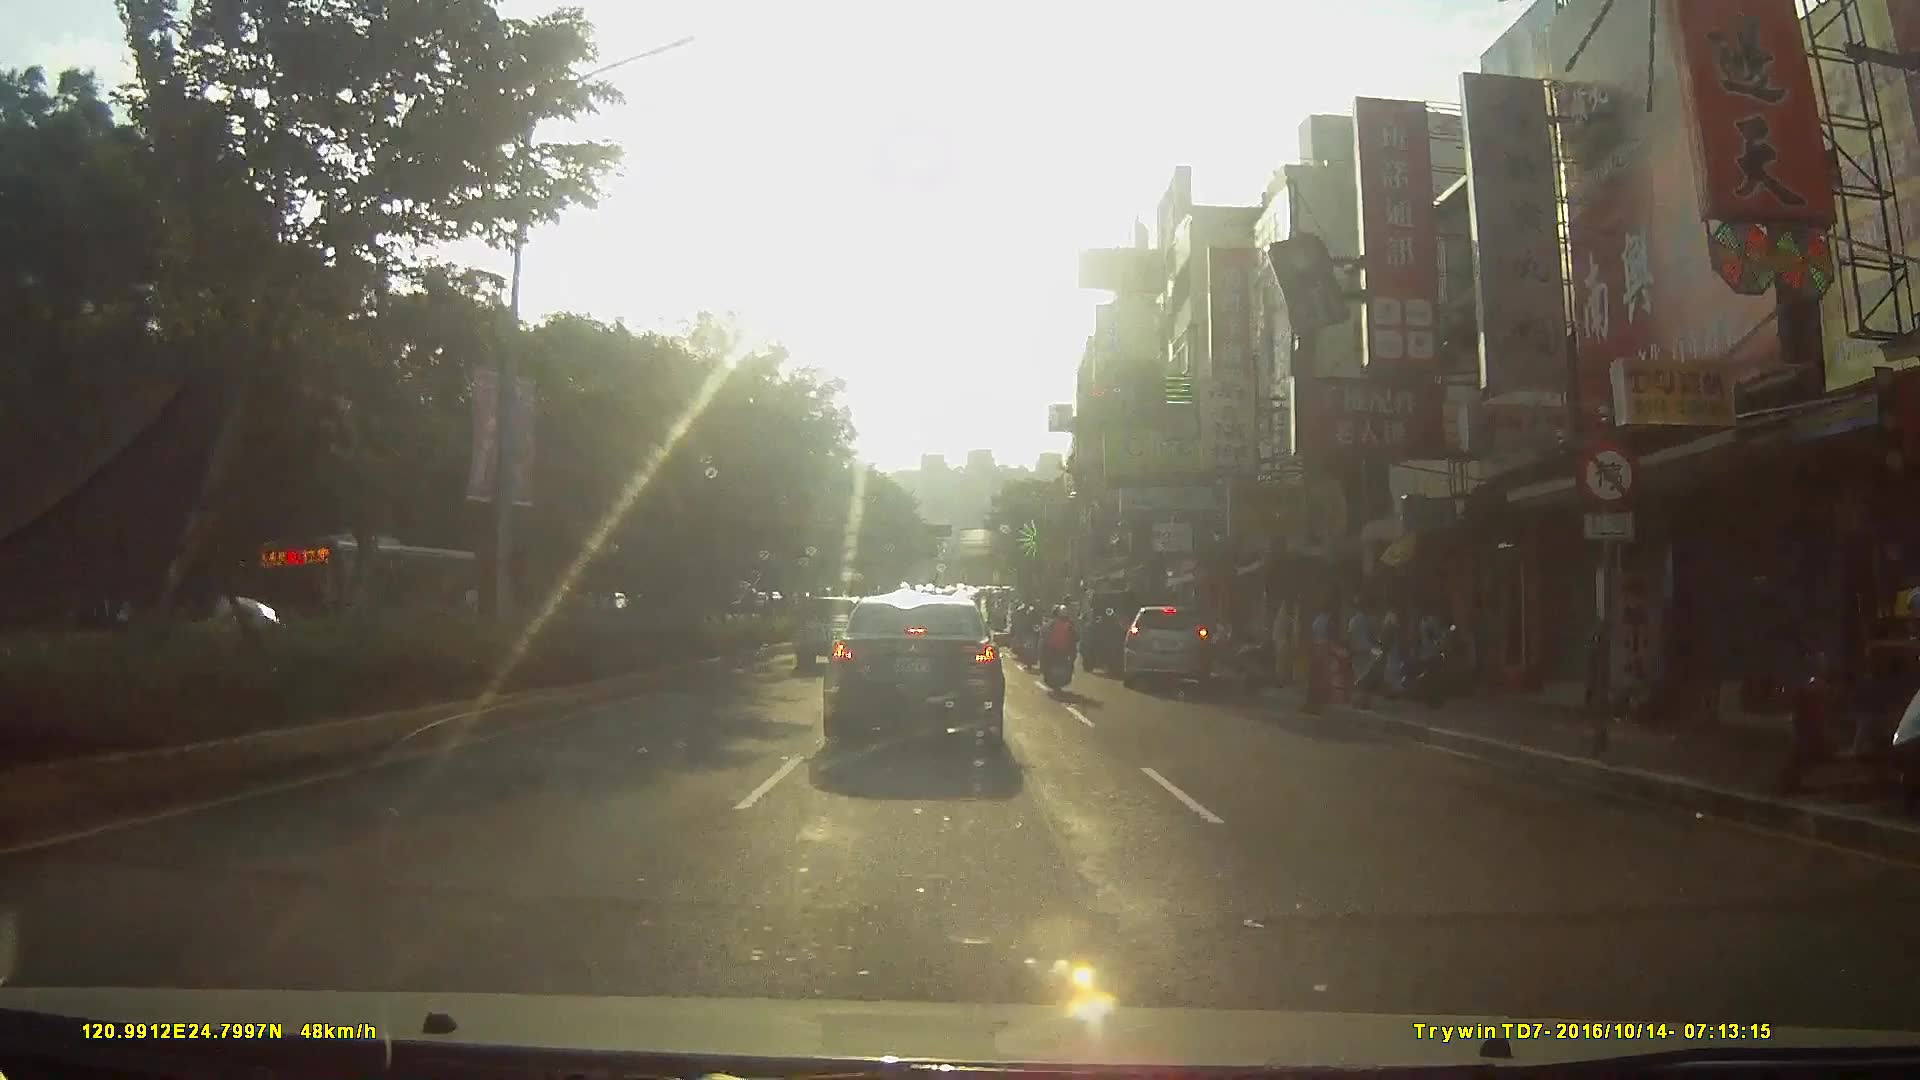pedestrian: (1382, 596, 1402, 658)
rider: (1043, 600, 1087, 697), (1017, 601, 1043, 668)
vehicle: (822, 588, 1030, 764), (243, 529, 480, 662), (1125, 600, 1222, 691), (1077, 578, 1162, 672)
